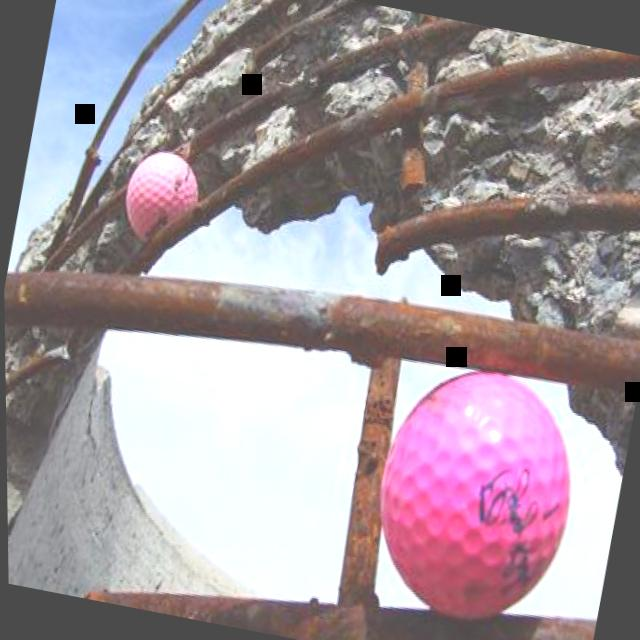golf ball: (350, 346, 591, 640), (115, 138, 210, 258)
